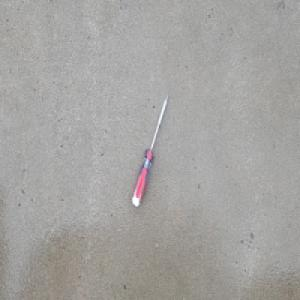Screwdriver: (130, 89, 169, 207)
